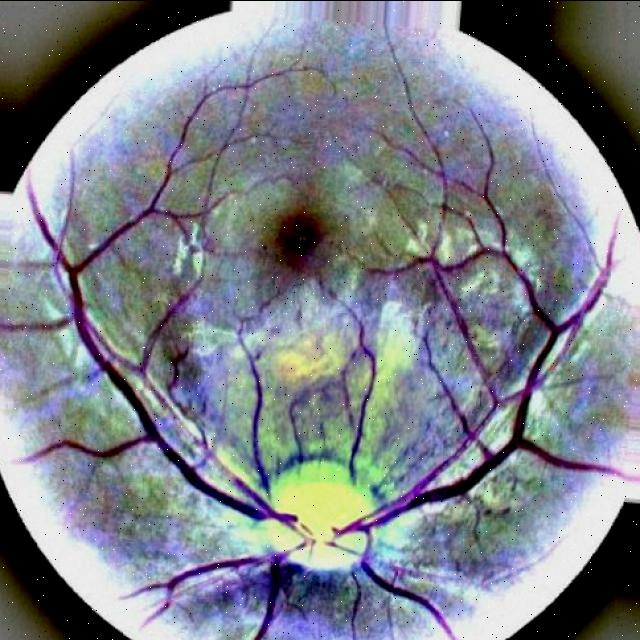Macula: (263, 186, 332, 287)
Nerves: (397, 365, 592, 524), (119, 388, 238, 516), (157, 551, 251, 621), (368, 567, 456, 627), (250, 586, 283, 640)
Optic Disk: (245, 457, 386, 586)
